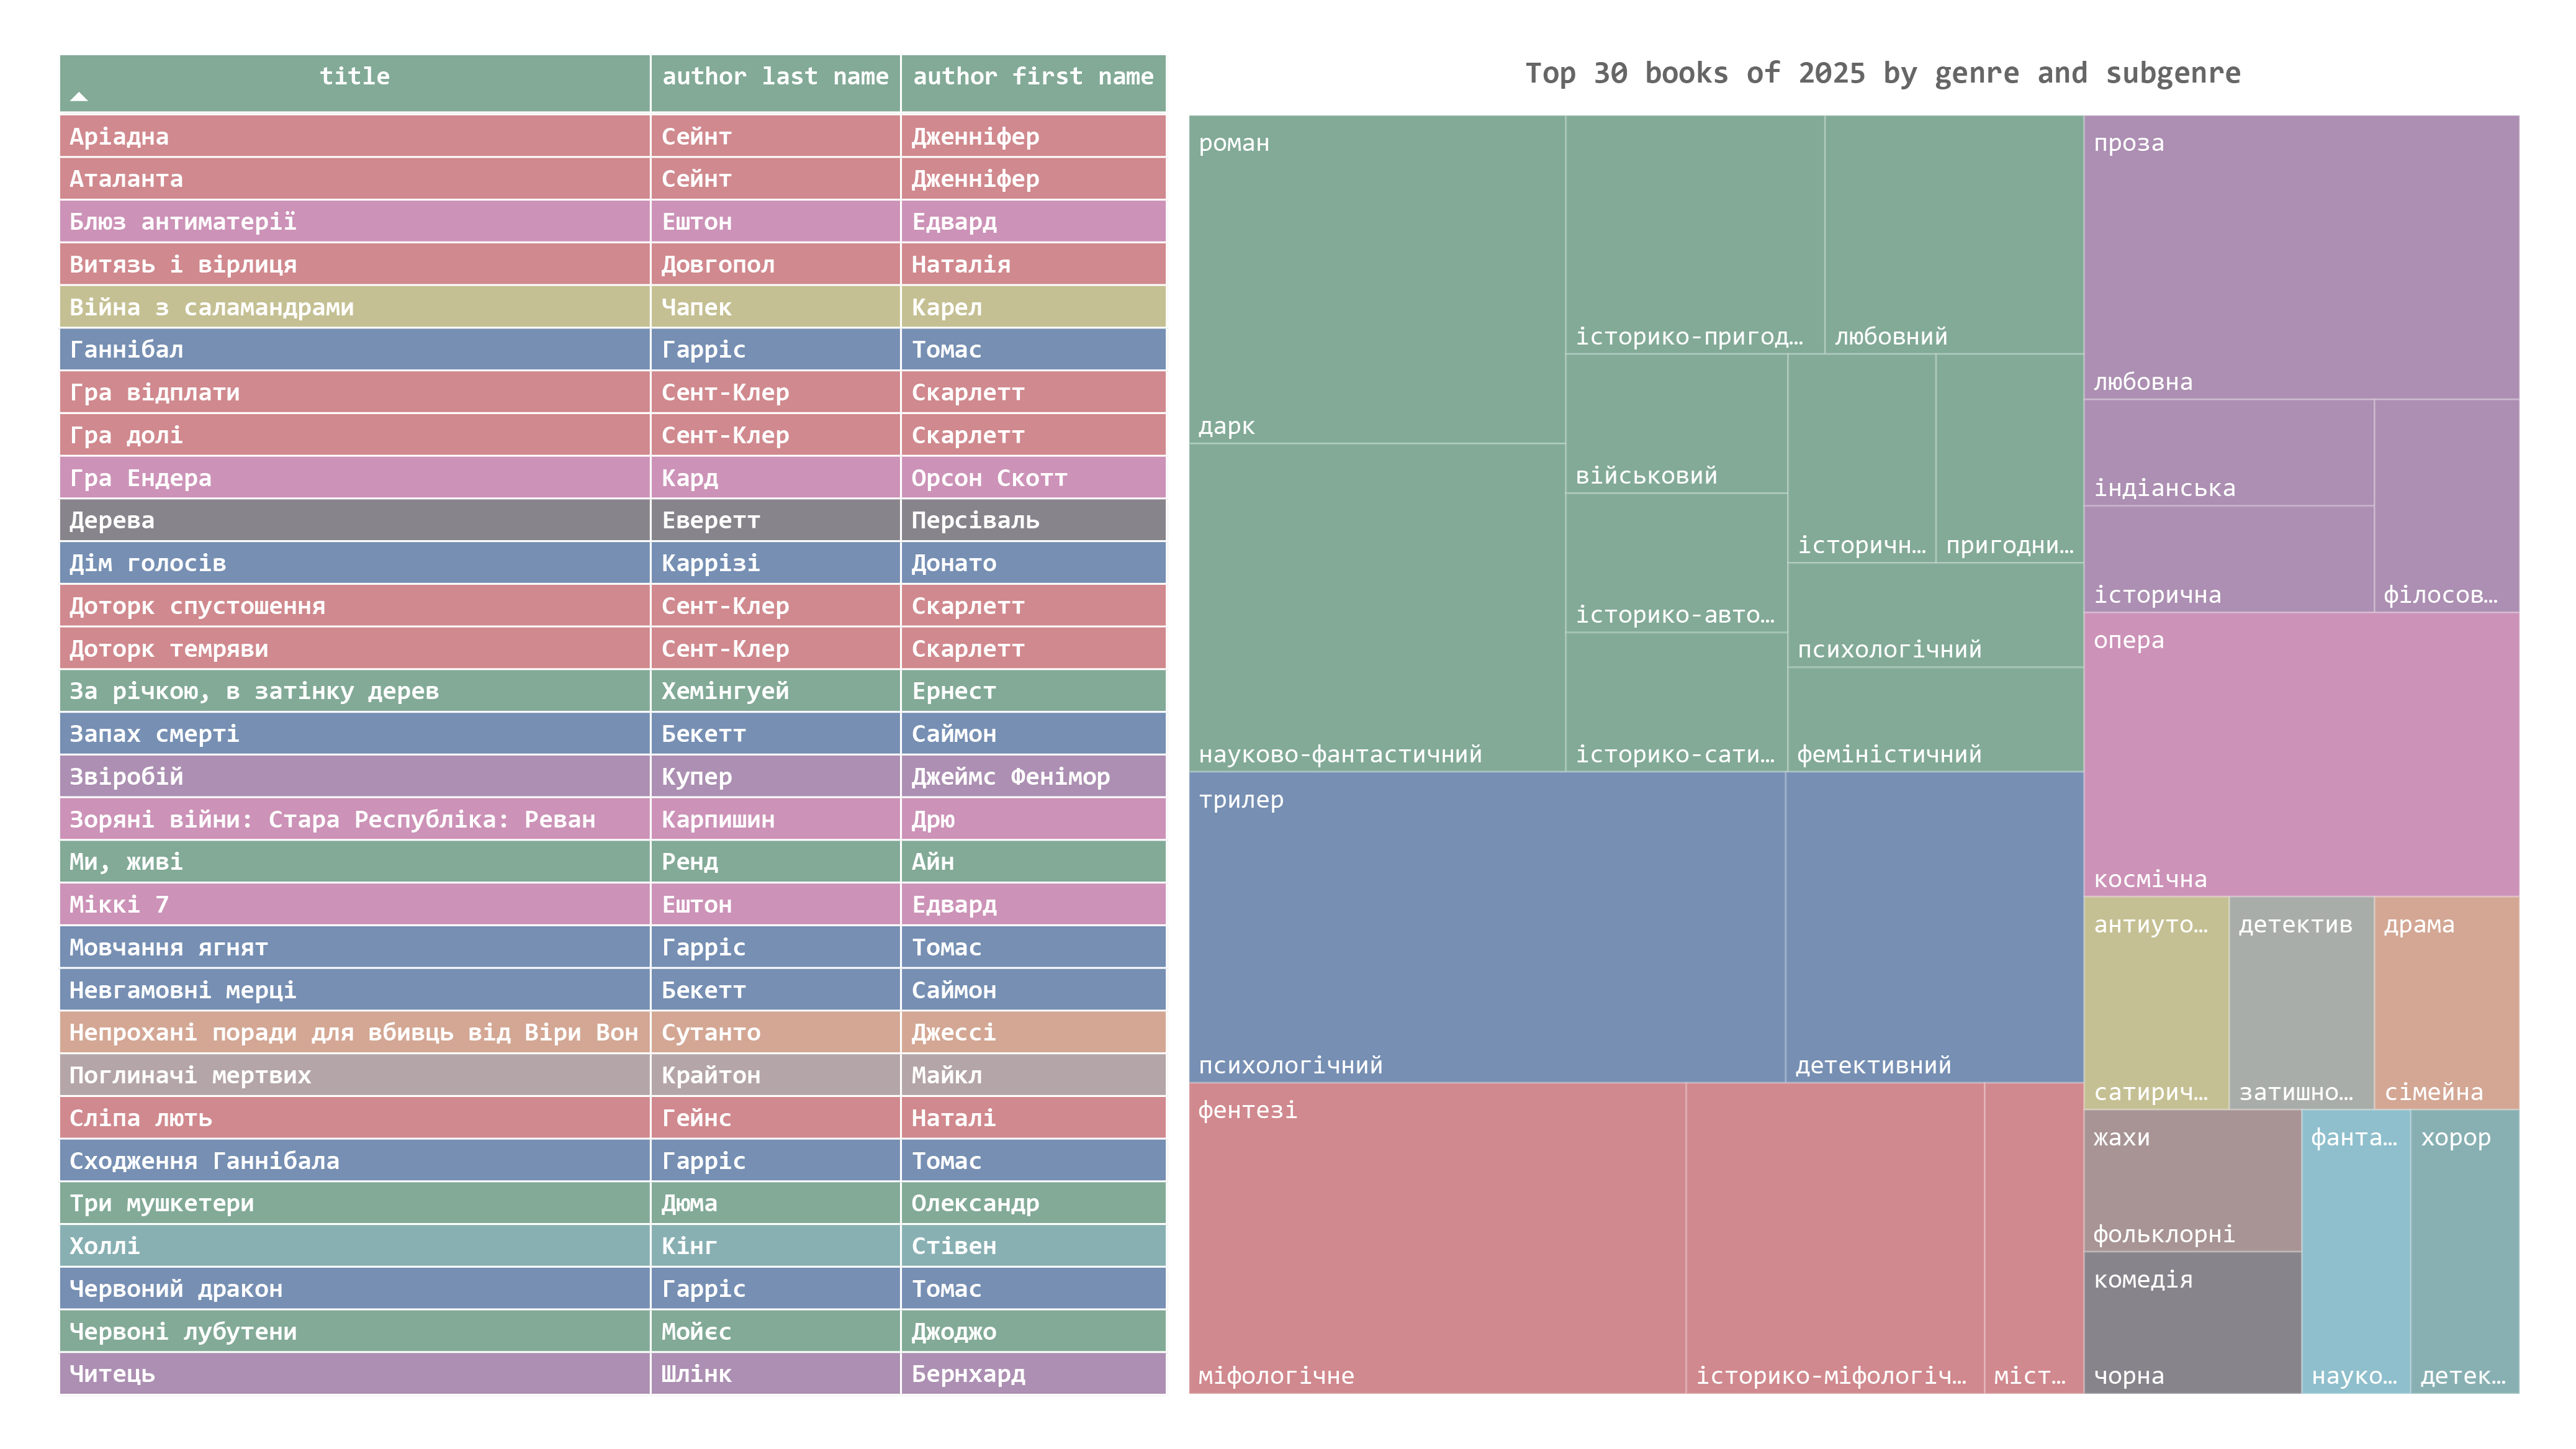

The page's visual inventory and layout, read from the dashboard file:
{"tool":"powerbi","page":{"name":"top + genres","canvas":[1280,720],"ordinal":2},"visuals":[{"type":"tableEx","title":"Top 30 books of the 2025 year","fields":{"Values":["public books (2).title","public authors (2).author_last_name","public authors (2).author_first_name"]},"box":[0,9.4,584.4,710.4],"z":0},{"type":"treemap","fields":{"Values":["public books (2).Recommended Books"],"Group":["public genres (2).genre"],"Details":["public genres_to_books (2).subgenre"]},"box":[584.4,41.1,695.6,668.9],"z":1000},{"type":"textbox","box":[713.3,8.9,467.8,28.9],"z":2000}]}

Visuals, with their boxes in screenshot pixels (x1, y1, x2, y2), scaled from the page's 1280x720 canvas onto the 2576x1449 screenshot:
"Top 30 books of the 2025 year" tableEx: bbox=(0, 19, 1176, 1448)
treemap - public books (2).Recommended Books x public genres (2).genre: bbox=(1176, 83, 2575, 1429)
textbox: bbox=(1436, 18, 2377, 76)
